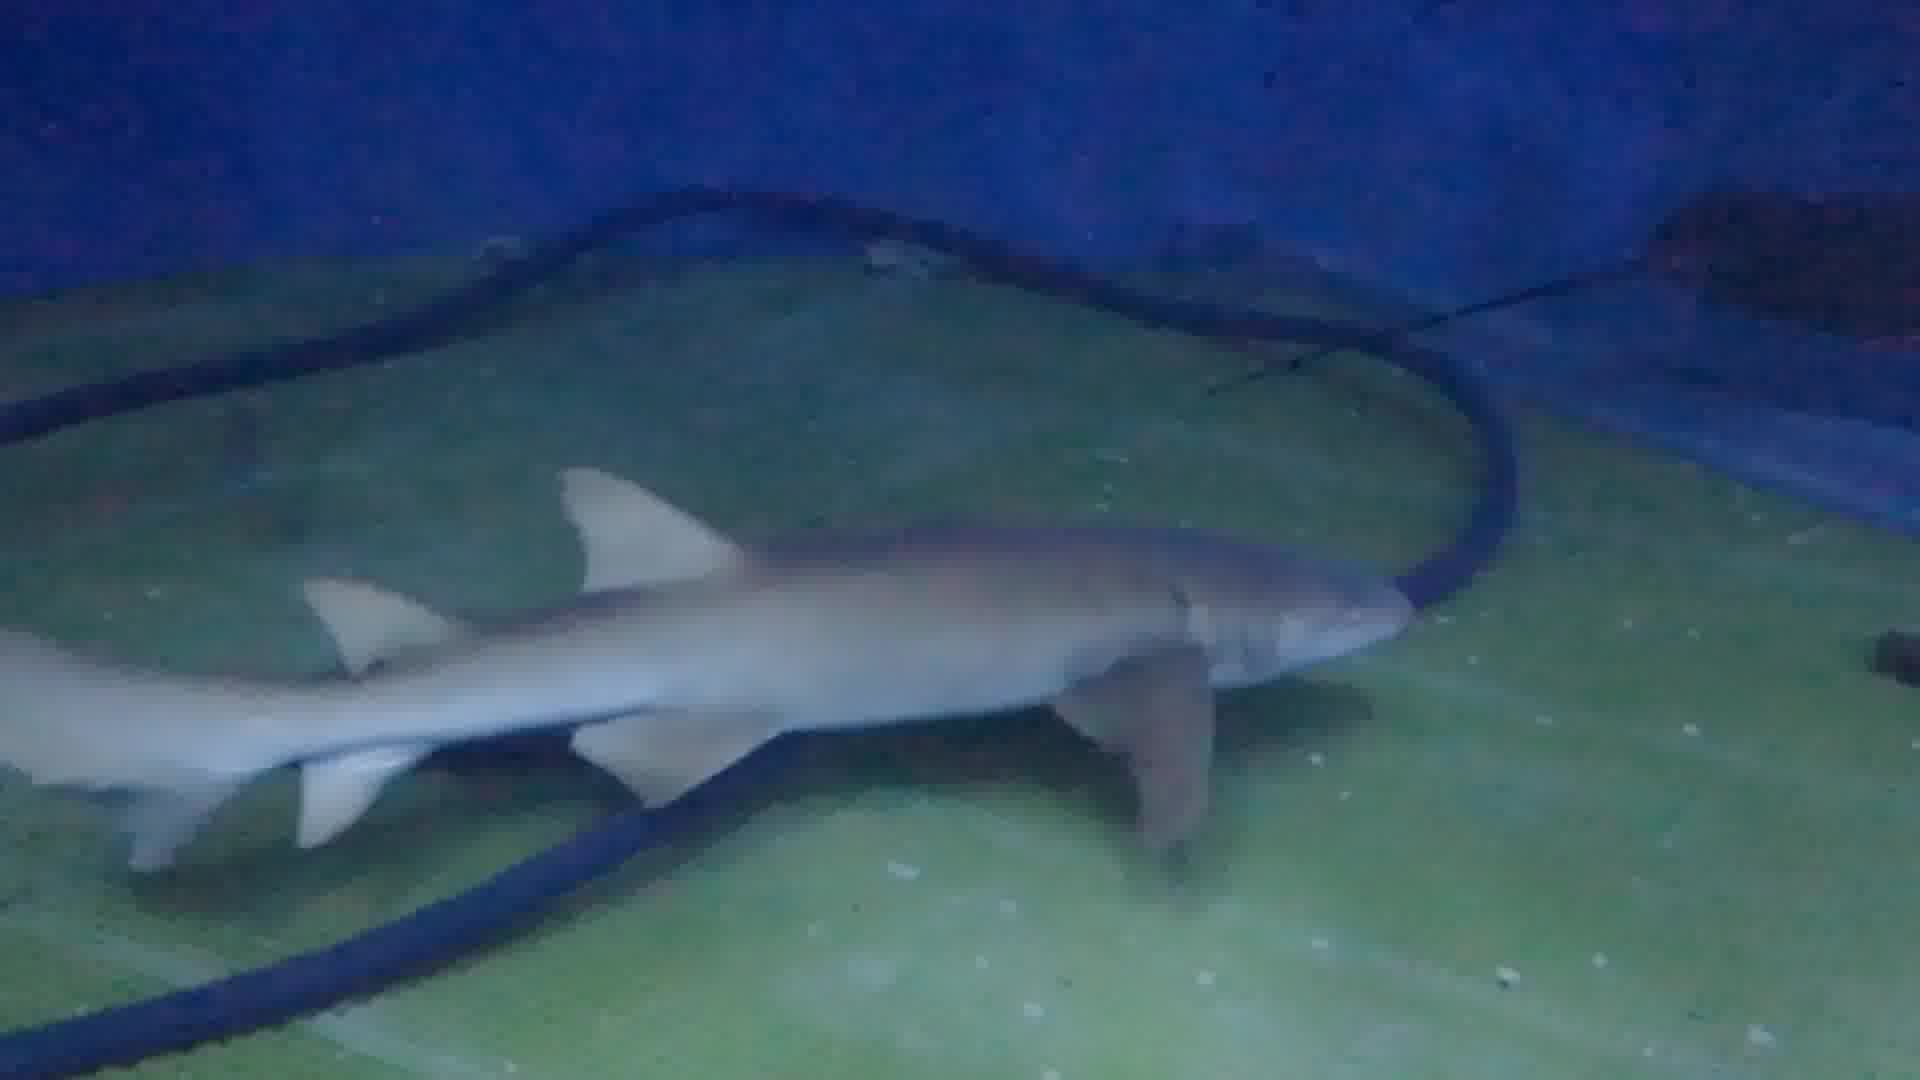Nebrius ferrugineus: (79, 472, 1416, 891)
